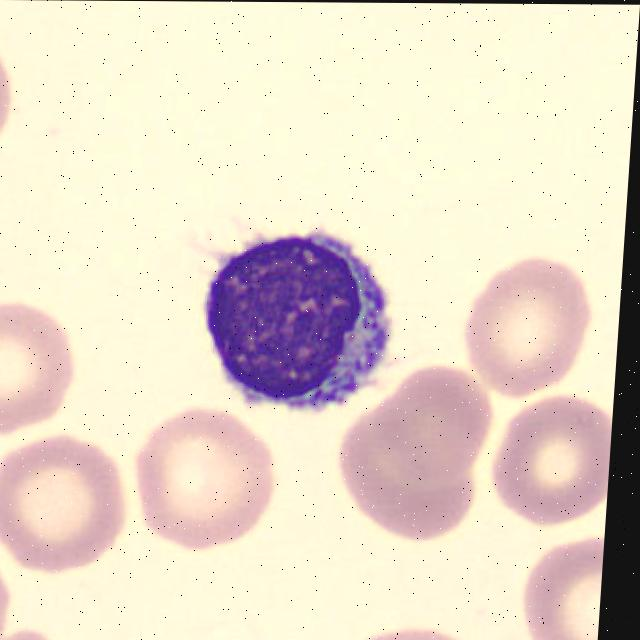lymphocyte: (187, 208, 404, 410)
rbc: (326, 401, 487, 548), (137, 405, 278, 550), (491, 388, 614, 526), (471, 262, 593, 394), (0, 446, 130, 569), (371, 367, 499, 480), (0, 298, 82, 436), (510, 526, 605, 640), (0, 59, 25, 149), (354, 623, 472, 640), (0, 544, 16, 640), (0, 630, 56, 640)
